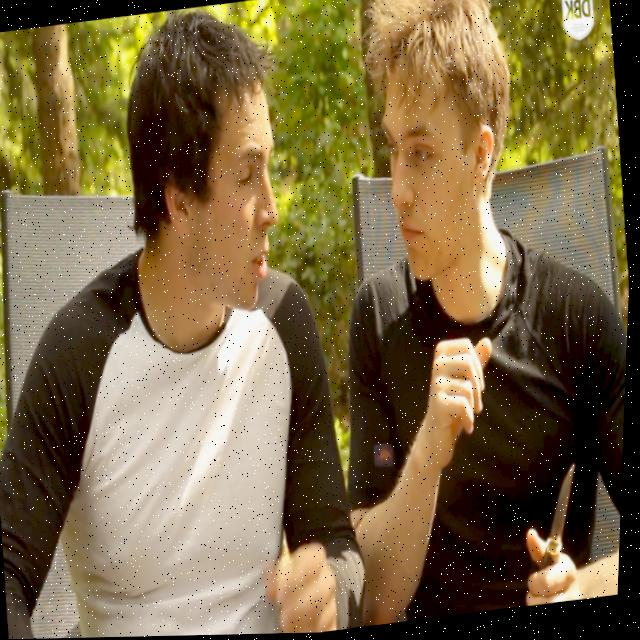knife: (533, 456, 597, 563)
